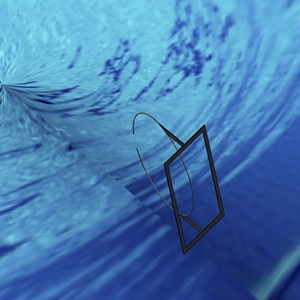circle: (130, 109, 229, 255)
